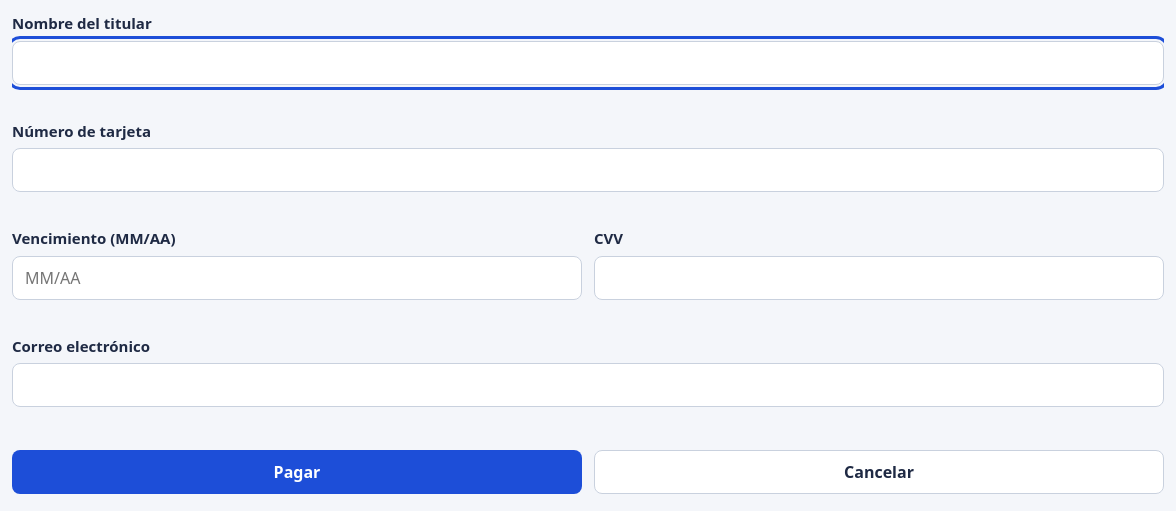
Scenario: PaymentForm › input formatting and card brand › groups the card number in blocks of 4 while typing
Type "4111111111111111" into the field labelled "Número de tarjeta" at (588, 170), box [12,148,1164,192]
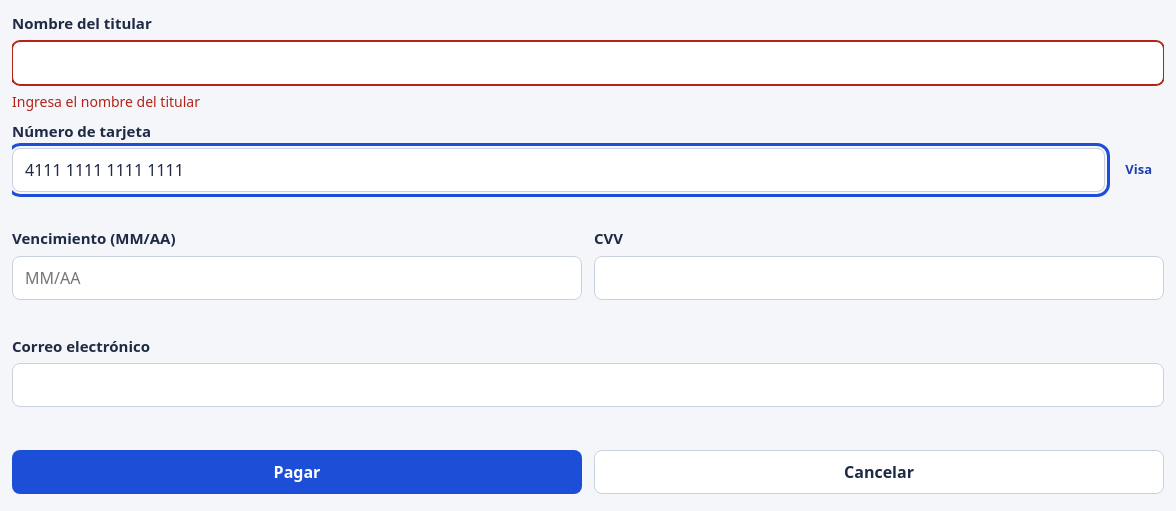
Now the field labelled "Número de tarjeta" holds "4111 1111 1111 1111", box [12,148,1105,192]
